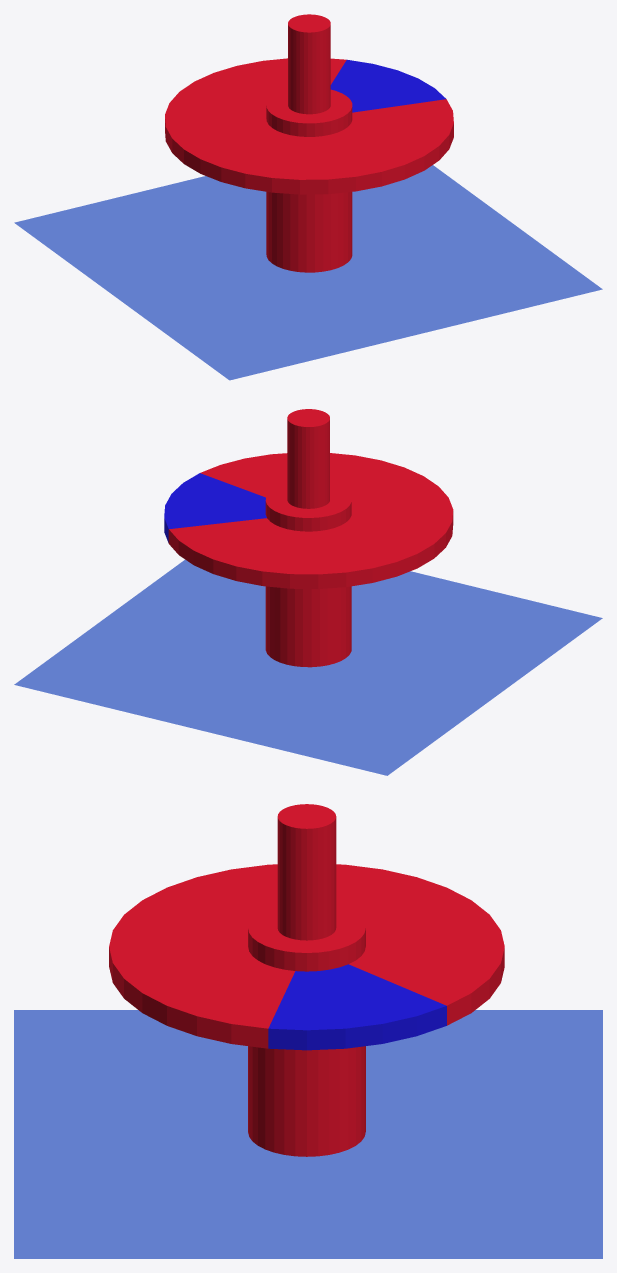
The picture shows the model from 3 angles, top to bottom: view 1: azimuth 30°, elevation 25°; view 2: azimuth 150°, elevation 25°; view 3: azimuth 270°, elevation 25°; orthographic projection. The views are drawn at different scales.
Visible parts, largest first — view 1: Plane, Cylinder; view 2: Plane, Cylinder; view 3: Plane, Cylinder.
Boxes of the visible parts, x1=… form: Plane: x1=14, y1=165, x2=602, y2=380; Cylinder: x1=165, y1=14, x2=453, y2=272; Plane: x1=14, y1=559, x2=602, y2=775; Cylinder: x1=164, y1=409, x2=453, y2=667; Plane: x1=14, y1=1010, x2=602, y2=1258; Cylinder: x1=109, y1=804, x2=504, y2=1156.
Size of the model in its own units: 10 by 5.96 by 10.
